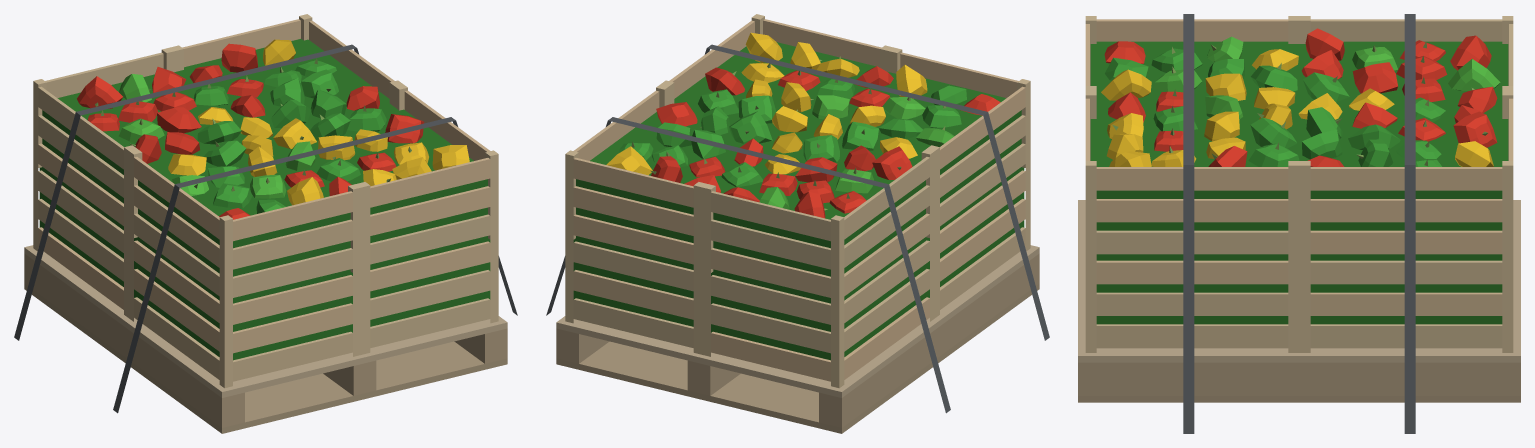
File: produce-pallet-peppers.glb
3 views of the same model, side by side, from view 1: azimuth 30°, elevation 25°; view 2: azimuth 150°, elevation 25°; view 3: azimuth 270°, elevation 25° (orthographic). The views are drawn at different scales.
Visible parts, largest first — view 1: ProducePalletPeppers_CrateWood, ProducePalletPeppers_Produce, ProducePalletPeppers_PalletWood, ProducePalletPeppers_Strap; view 2: ProducePalletPeppers_CrateWood, ProducePalletPeppers_Produce, ProducePalletPeppers_PalletWood, ProducePalletPeppers_Strap; view 3: ProducePalletPeppers_CrateWood, ProducePalletPeppers_Produce, ProducePalletPeppers_PalletWood, ProducePalletPeppers_Strap, ProducePalletPeppers_ProduceStem.
Boxes of the visible parts, x1,y1,x2,y2 form: ProducePalletPeppers_CrateWood: (33, 14, 498, 388); ProducePalletPeppers_Produce: (39, 39, 490, 360); ProducePalletPeppers_PalletWood: (24, 245, 507, 433); ProducePalletPeppers_Strap: (14, 44, 517, 413); ProducePalletPeppers_CrateWood: (565, 14, 1030, 388); ProducePalletPeppers_Produce: (573, 32, 1024, 360); ProducePalletPeppers_PalletWood: (556, 245, 1039, 433); ProducePalletPeppers_Strap: (546, 44, 1049, 413); ProducePalletPeppers_CrateWood: (1085, 16, 1513, 352); ProducePalletPeppers_Produce: (1090, 28, 1508, 324); ProducePalletPeppers_PalletWood: (1078, 200, 1520, 402); ProducePalletPeppers_Strap: (1183, 14, 1415, 433); ProducePalletPeppers_ProduceStem: (1108, 35, 1487, 166).
Size of the model in its own units: 1.4 by 0.7185 by 1.2.
